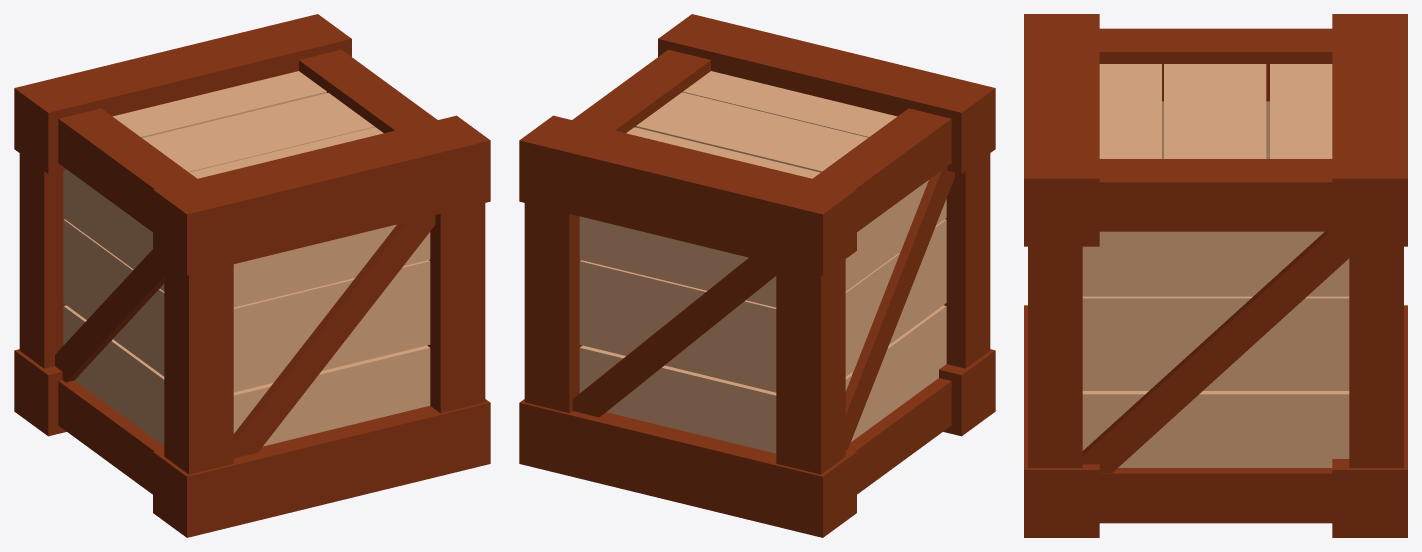
File: NewBox.fbx
3 views of the same model, side by side, from view 1: azimuth 30°, elevation 25°; view 2: azimuth 150°, elevation 25°; view 3: azimuth 270°, elevation 25° (orthographic). The views are drawn at different scales.
Visible parts, largest first — view 1: Cube.027, Cube.029, Cube.028, Cube.021, Cube.008, Cube.022, Cube.007, Cube.034, Cube.019, Cube.017, Cube.023, Cube.009 (+9 smaller); view 2: Cube.028, Cube.030, Cube.027, Cube.019, Cube.011, Cube.020, Cube.010, Cube.017, Cube.021, Cube.023, Cube.035, Cube.012 (+9 smaller); view 3: Cube.005, Cube.027, Cube.028, Cube.024, Cube.004, Cube.006, Cube.026, Cube.020, Cube.022, Cube.033, Cube.017, Cube.023 (+4 smaller).
Boxes of the visible parts, x1,y1,x2,y2 form: Cube.027: (153,115,490,275); Cube.029: (153,399,490,537); Cube.028: (14,14,351,173); Cube.021: (164,259,233,474); Cube.008: (233,260,430,392); Cube.022: (427,203,485,413); Cube.007: (233,345,430,446); Cube.034: (233,215,435,458); Cube.019: (19,153,65,368); Cube.017: (142,93,374,172); Cube.023: (58,108,197,231); Cube.009: (233,224,430,307); Cube.028: (519,115,856,275); Cube.030: (519,399,856,537); Cube.027: (658,14,995,173); Cube.019: (776,259,845,474); Cube.011: (579,260,776,392); Cube.020: (524,203,582,413); Cube.010: (579,345,776,453); Cube.017: (636,92,867,172); Cube.021: (944,153,990,368); Cube.023: (812,108,951,231); Cube.035: (572,257,776,417); Cube.012: (579,216,776,307); Cube.005: (1082,296,1349,390); Cube.027: (1024,14,1099,246); Cube.028: (1332,14,1407,246); Cube.024: (1099,159,1332,231); Cube.004: (1082,391,1349,467); Cube.006: (1082,231,1349,296); Cube.026: (1099,468,1332,523); Cube.020: (1349,246,1403,467); Cube.022: (1028,246,1082,467); Cube.033: (1082,231,1349,473); Cube.017: (1164,64,1266,158); Cube.023: (1099,28,1332,101).
Bounding box in the file's own units: 85.94 × 87.5 × 84.68.
